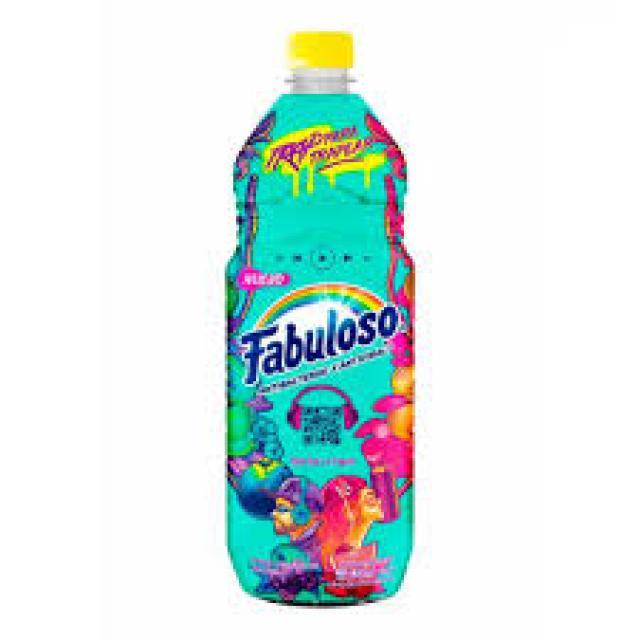Botella: (216, 24, 422, 609)
